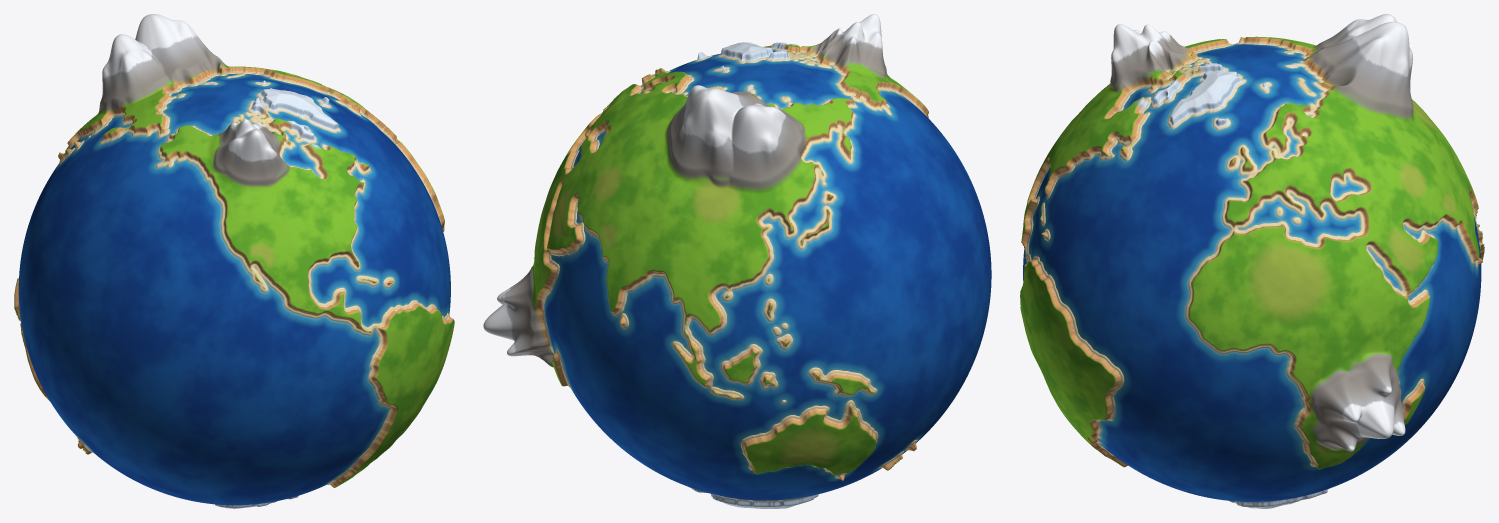
The model's file is Stylized_Earth.fbx.
The picture shows the model from 3 angles, left to right: view 1: azimuth 30°, elevation 25°; view 2: azimuth 150°, elevation 25°; view 3: azimuth 270°, elevation 25°; orthographic projection. The views are drawn at different scales.
Parts seen in each view (by area): view 1: Earth_Ocean, Earth_Land; view 2: Earth_Ocean, Earth_Land; view 3: Earth_Land, Earth_Ocean.
Boxes of the visible parts, x1,y1,x2,y2 form: Earth_Ocean: (18, 73, 450, 505); Earth_Land: (14, 14, 454, 508); Earth_Ocean: (544, 49, 991, 500); Earth_Land: (483, 14, 928, 508); Earth_Land: (1020, 14, 1484, 508); Earth_Ocean: (1023, 44, 1481, 501).
Bounding box in the file's own units: 2.11 × 2.22 × 2.03.
